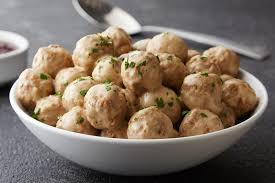bakso: (14, 18, 256, 154)
